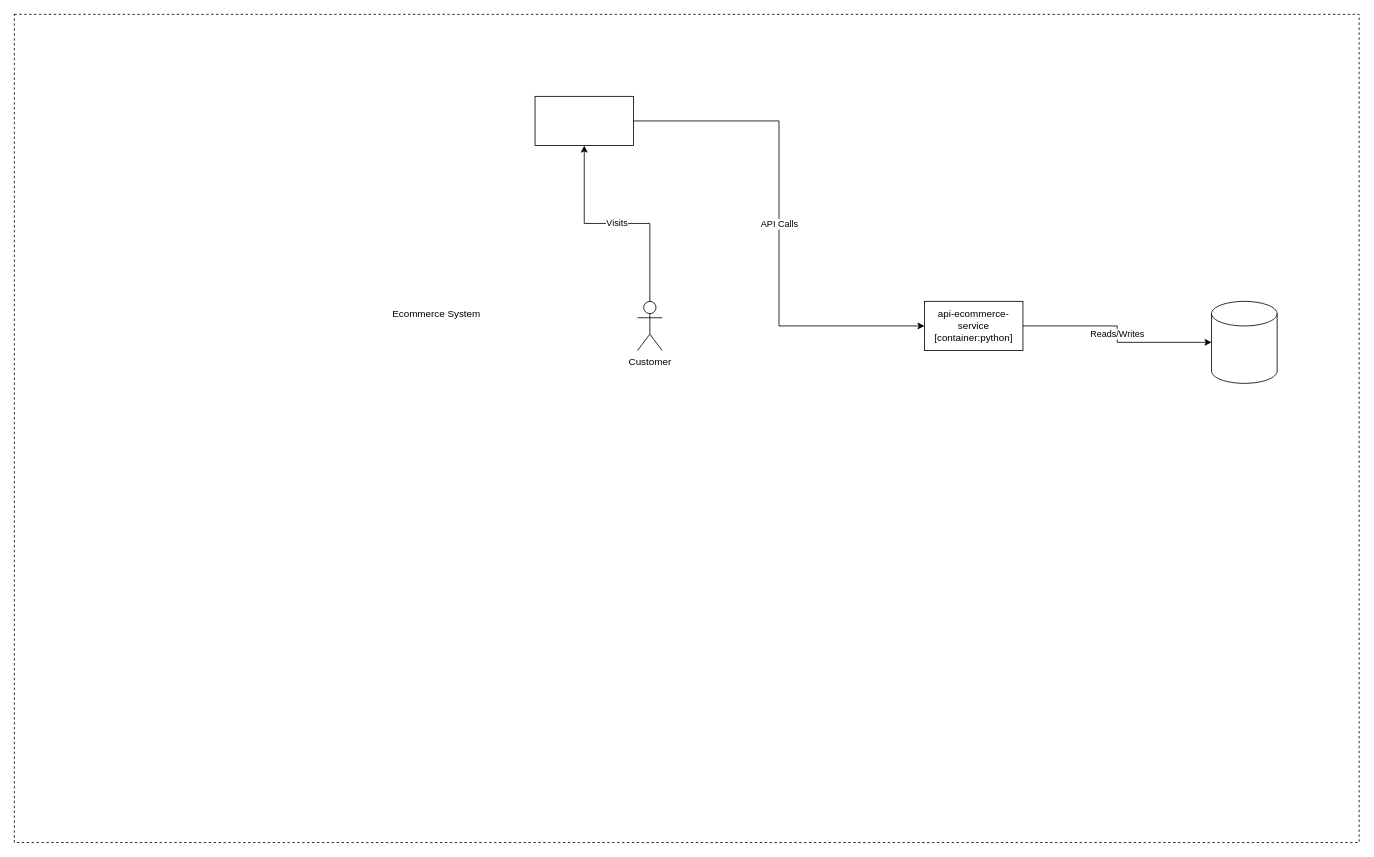
Some shapes in this 1374 by 857 pixel diagram are drawn without their labels. Each missing label, with the centre of its shape:
ecommerce-web-client [container:node.js]: the point at 583,121
Local File System [File Storage]: the point at 1244,342
